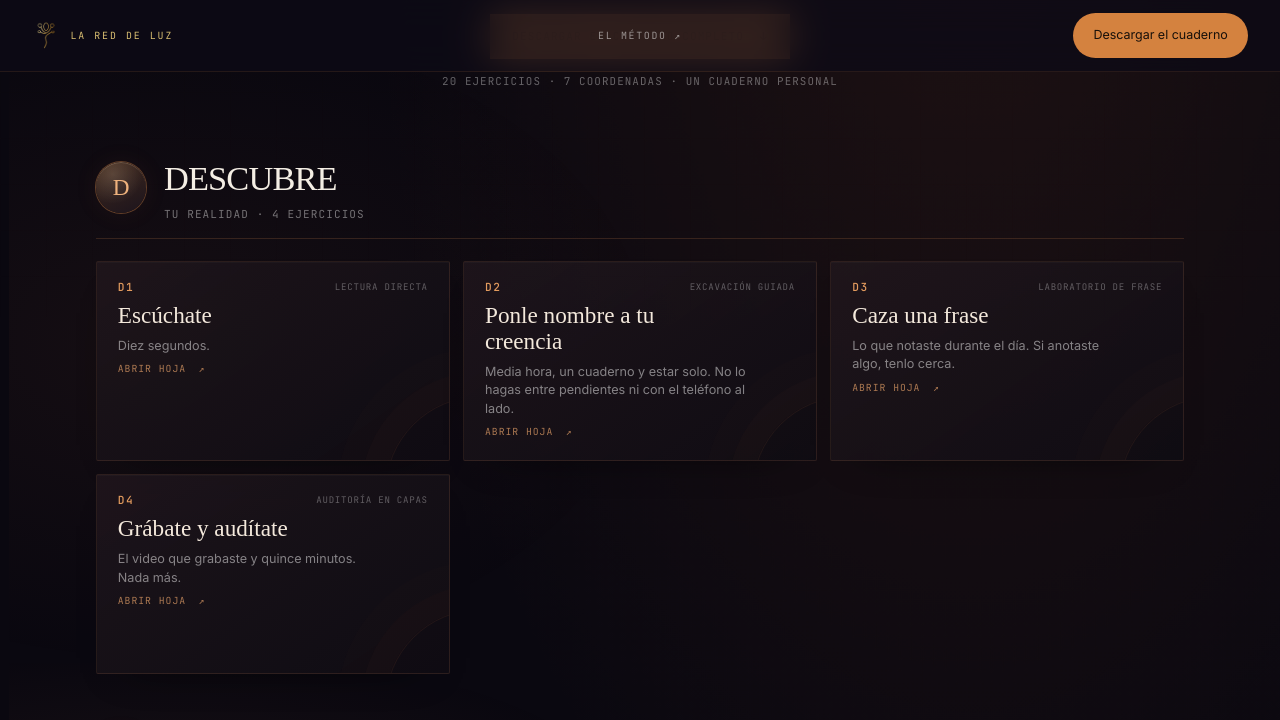
Test case: cuaderno de trabajo › abre D1 como la lectura directa indicada en el libro principal
(page scrolled)
Click the button "D1" at x=381, y=287, box [96,261,450,461]
(page scrolled)
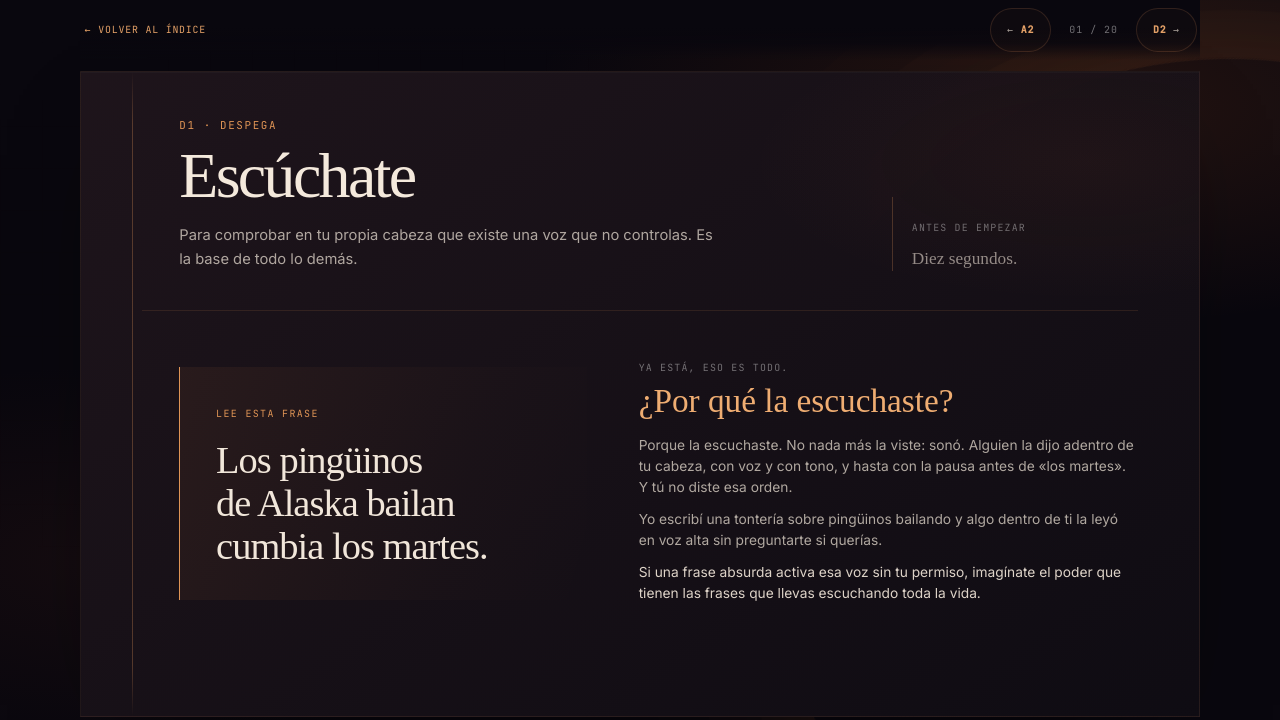
Result: the element named "D1 · Escúchate" is shown
Result: the text "Los pingüinos de Alaska bailan cumbia los martes." is shown at [216,440,488,568]
Result: the heading "¿Por qué la escuchaste?" is shown at [639,382,954,419]
